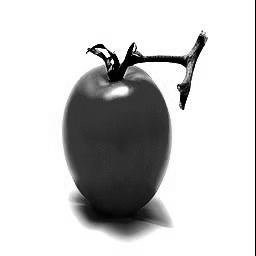bukan telur: (62, 62, 173, 213)
